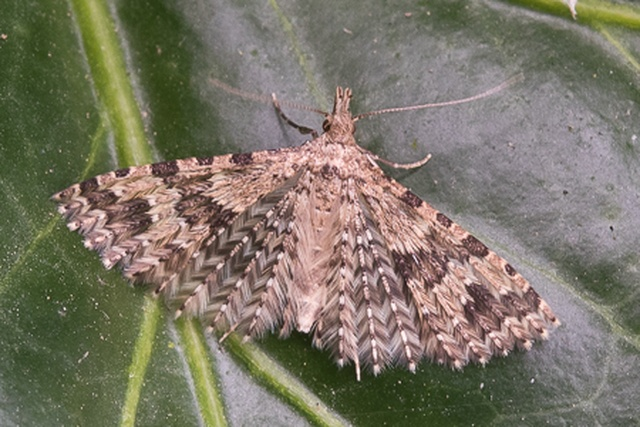Alucitidae: (51, 61, 568, 380)
moth: (49, 59, 566, 378)
